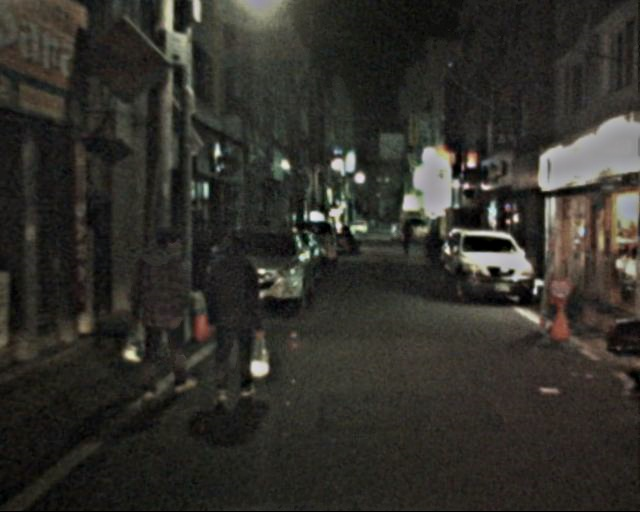person: (132, 226, 205, 393), (201, 233, 272, 403), (401, 224, 415, 258)
